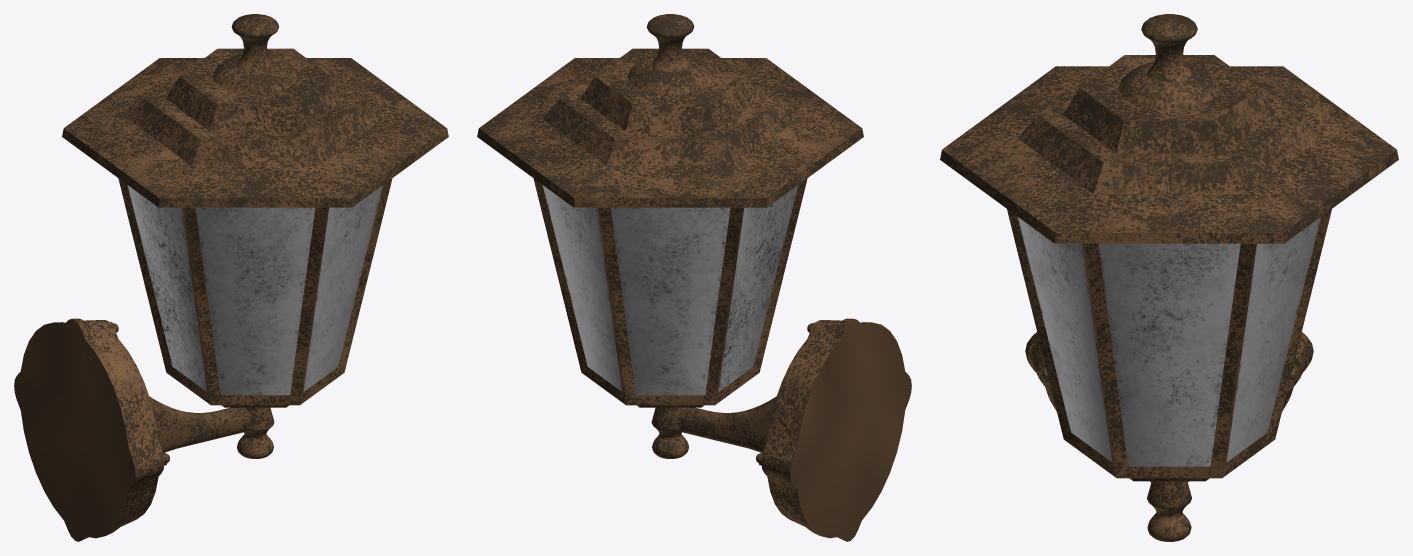
File: Lamp.fbx
3 views of the same model, side by side, from view 1: azimuth 30°, elevation 25°; view 2: azimuth 150°, elevation 25°; view 3: azimuth 270°, elevation 25° (orthographic). The views are drawn at different scales.
Visible parts, largest first — view 1: body_low, glass_low; view 2: body_low, glass_low; view 3: body_low, glass_low.
Boxes of the visible parts, bbox=[...] form: body_low: bbox=[14, 14, 448, 541]; glass_low: bbox=[127, 185, 383, 395]; body_low: bbox=[477, 14, 911, 541]; glass_low: bbox=[542, 185, 798, 395]; body_low: bbox=[940, 14, 1398, 541]; glass_low: bbox=[1018, 217, 1320, 466].
Size of the model in its own units: 42.68 by 59.87 by 43.91.
